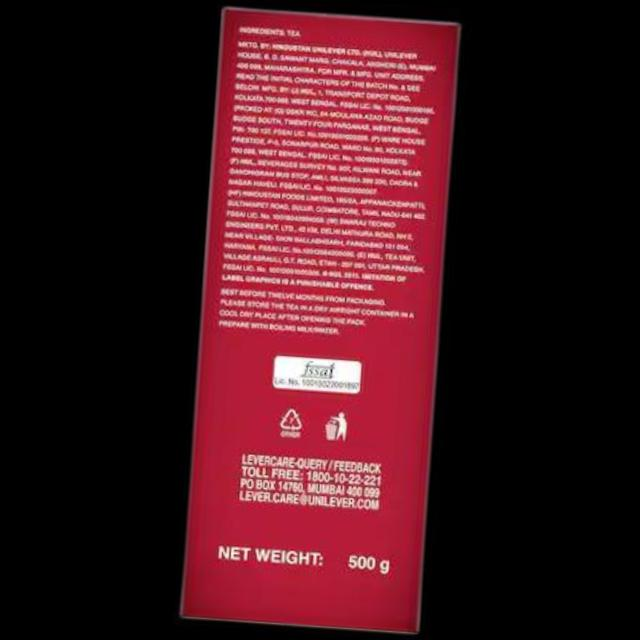Brooke Bond Red Label Leaf Tea 500 g: (166, 0, 479, 640)
